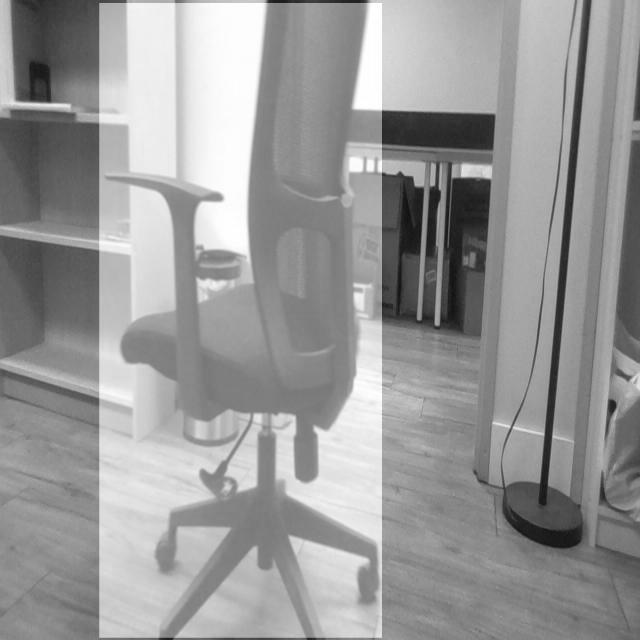chair: (101, 0, 387, 640)
